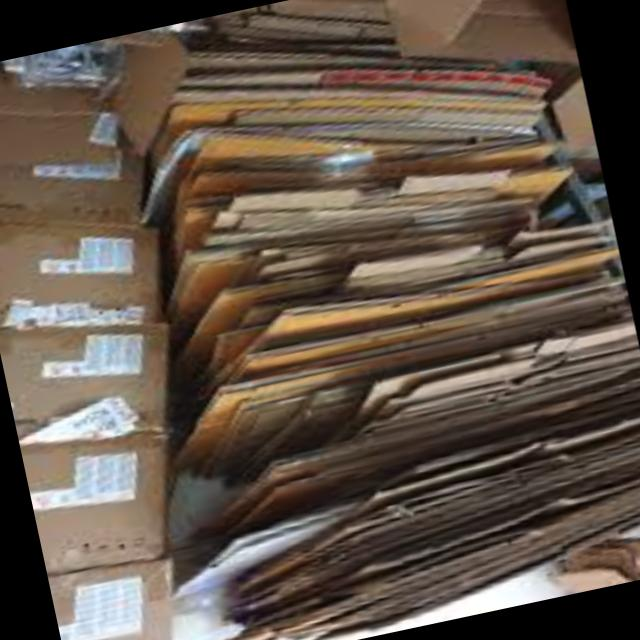Kardus: (57, 0, 640, 640)
